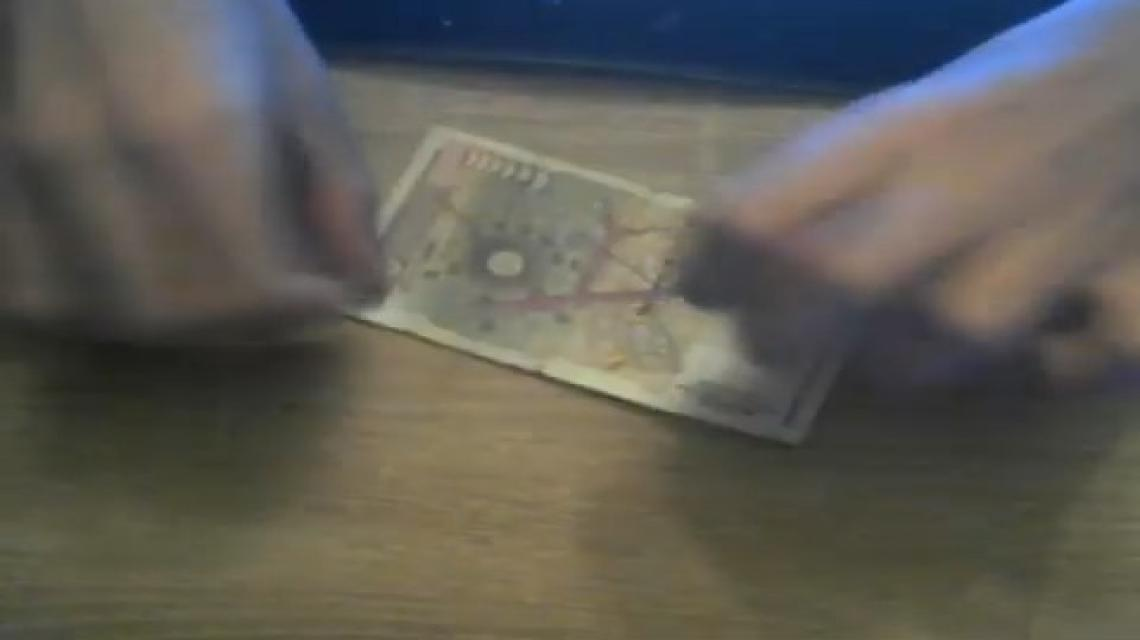10leva: (366, 126, 803, 444)
